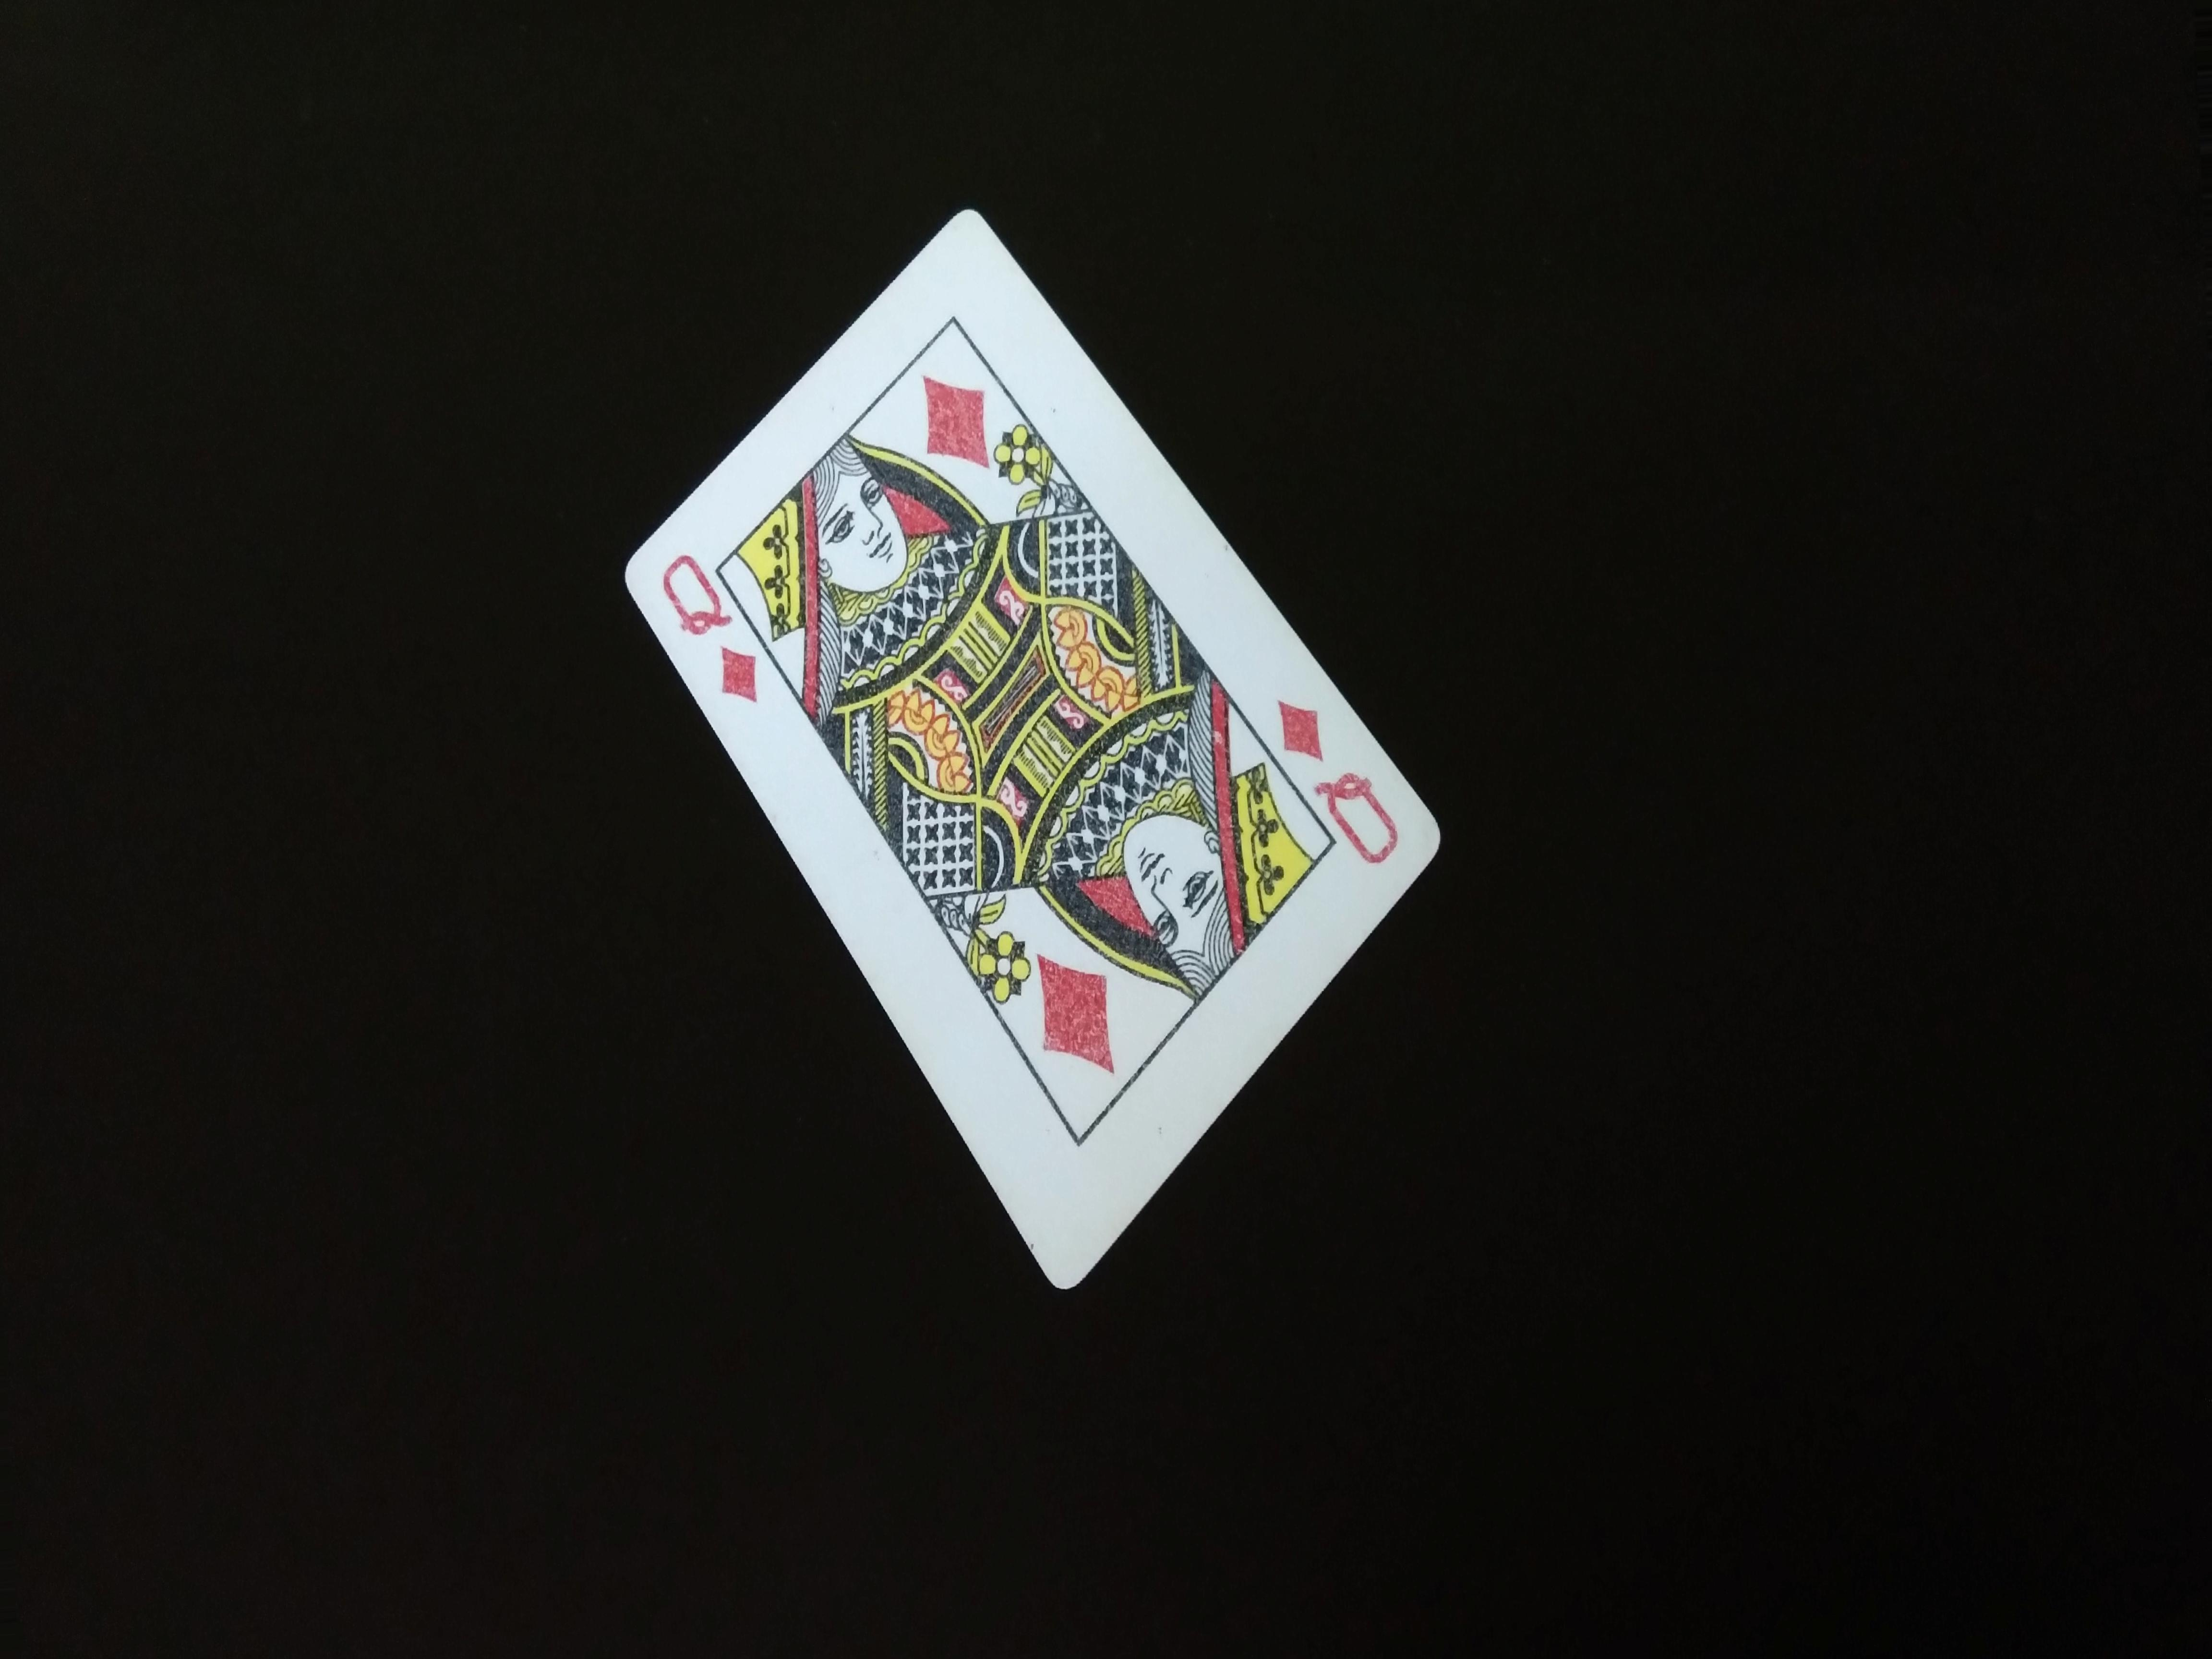QD: (1278, 690, 1414, 878)
